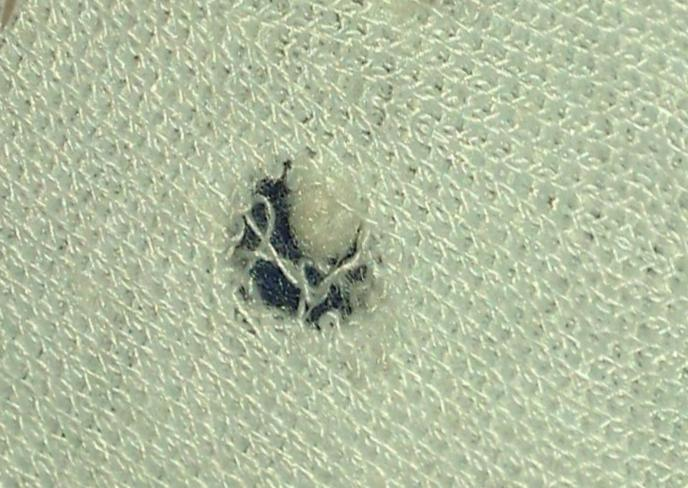hole: (261, 145, 380, 285)
